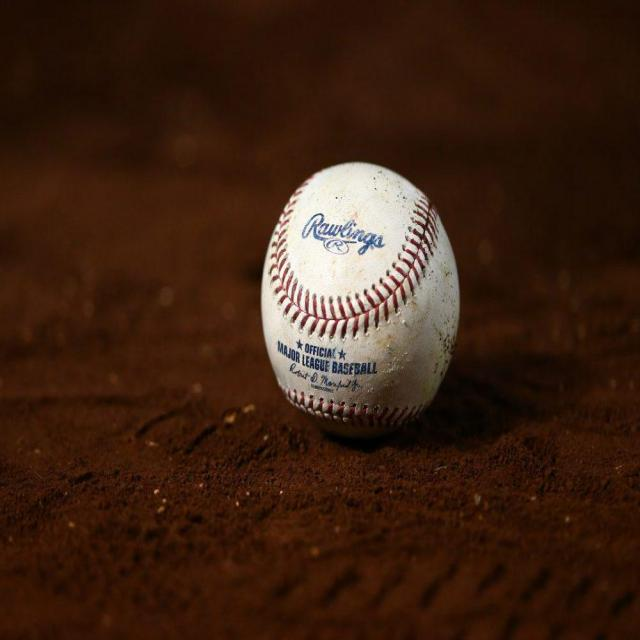baseball: (261, 161, 462, 441)
